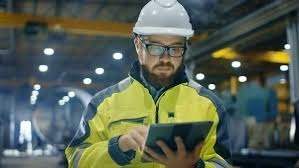helmet: (130, 1, 196, 40)
person with partial safety: (63, 1, 233, 167)
